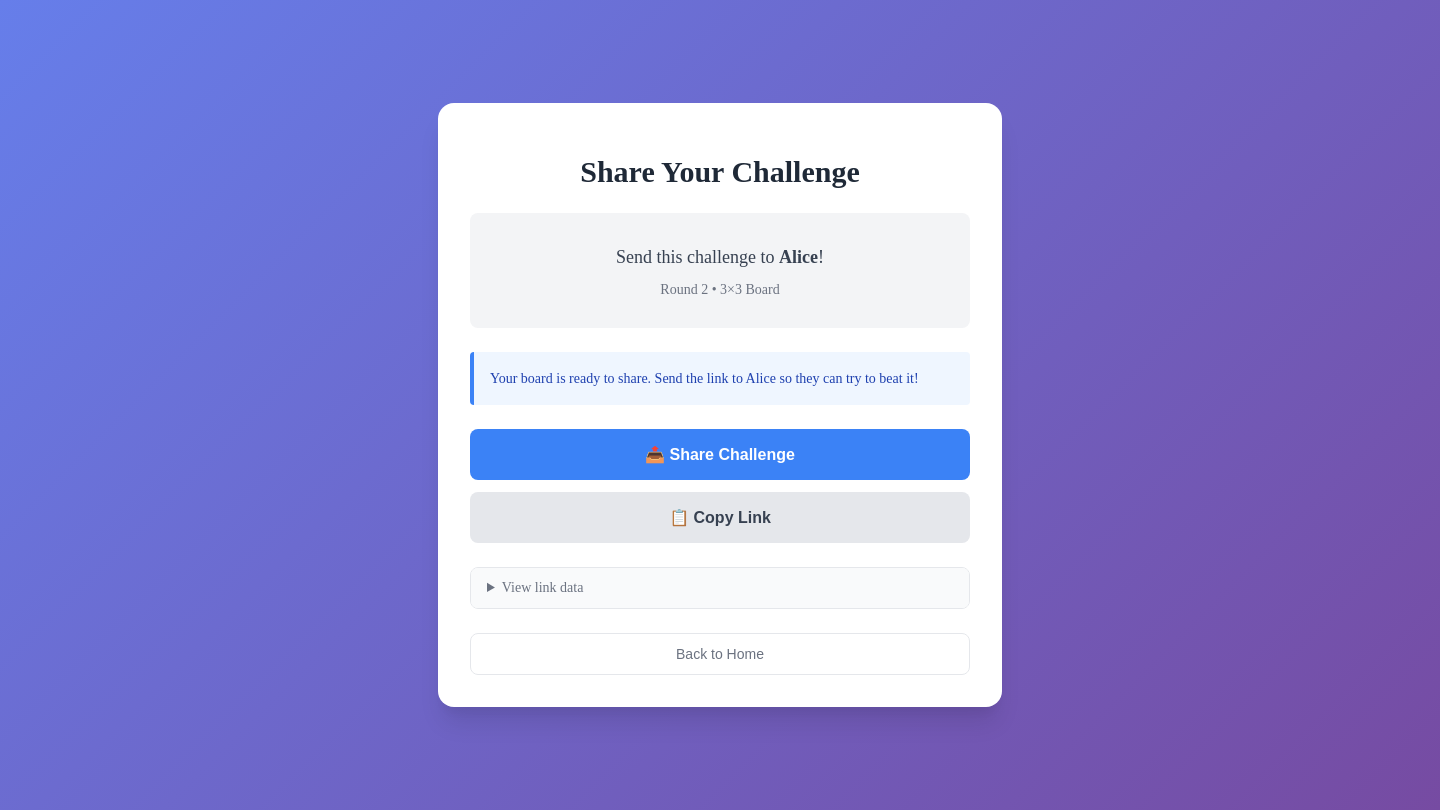
Test: ShareChallenge › Native share functionality › should show success message after sharing
Click the button "📤 Share Challenge" at [720, 454], box 470,429 -> 970,480
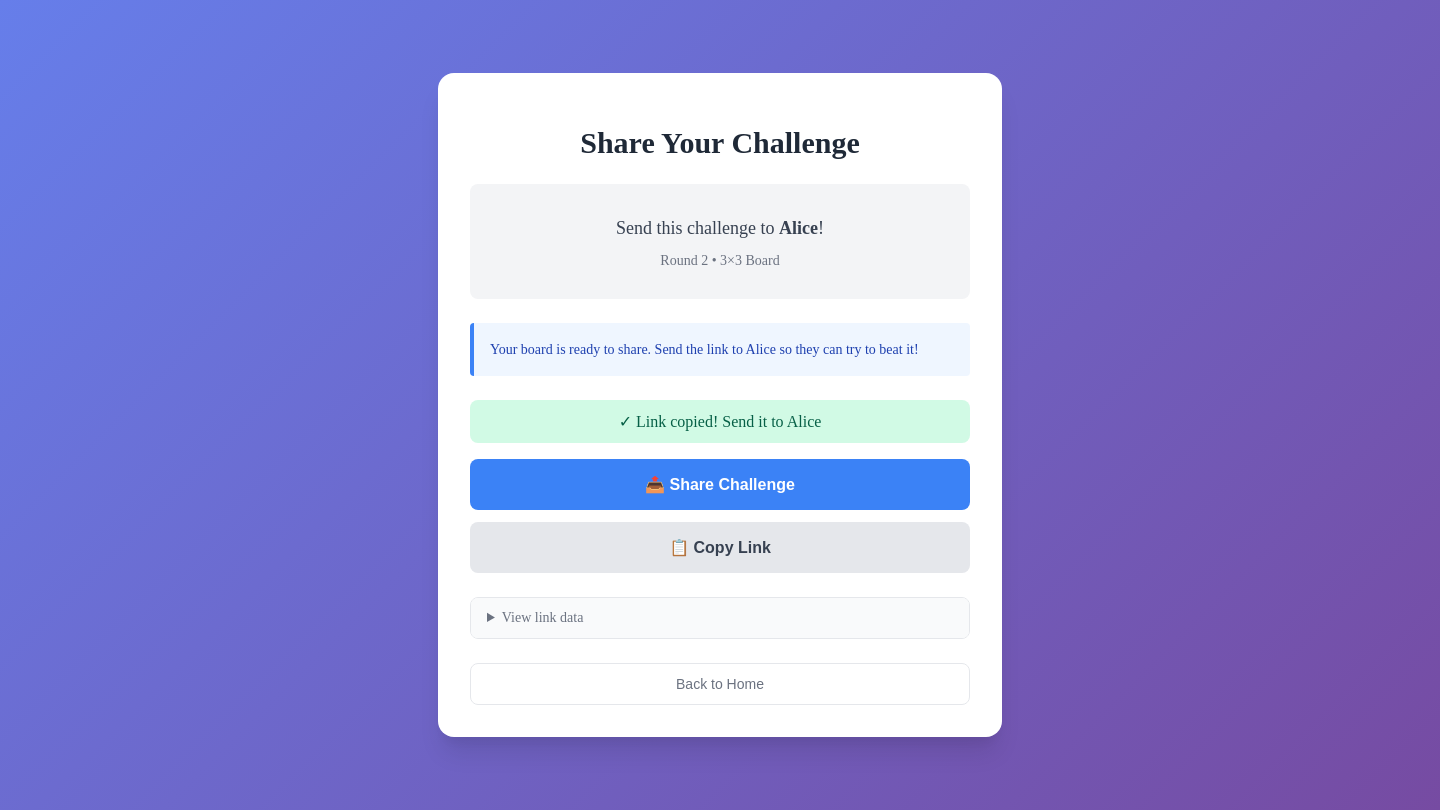
Expected: the text "✓ Link copied! Send it to Alice" is shown, 470,400 -> 970,442
